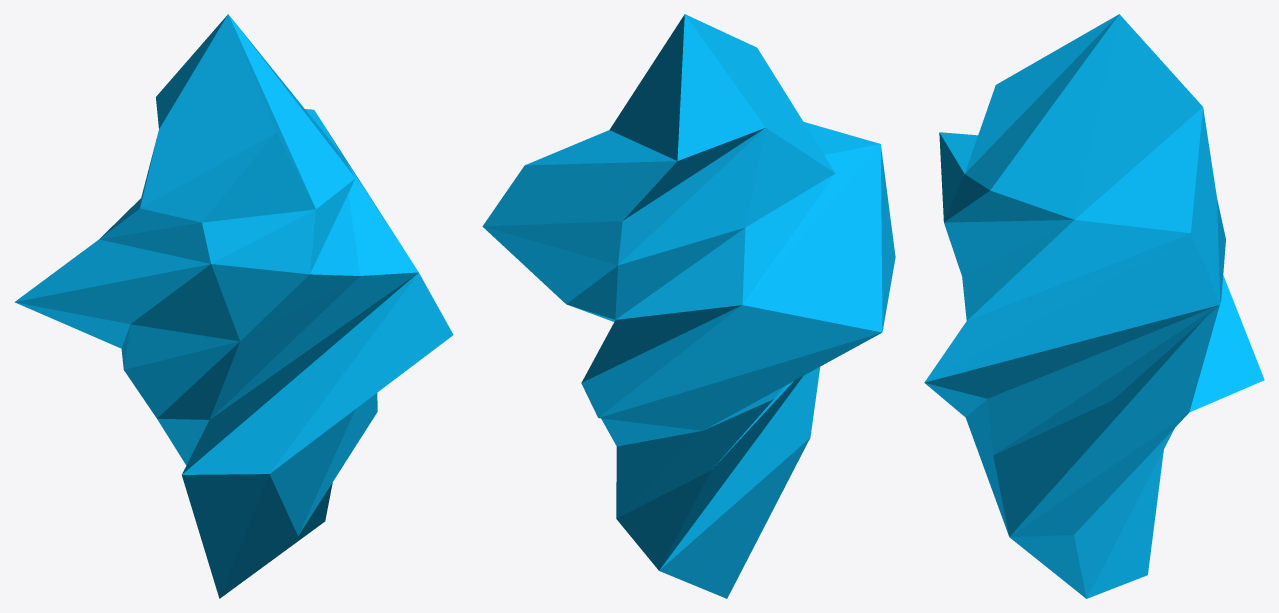
The model's file is Crystal_008.fbx.
The picture shows the model from 3 angles, left to right: view 1: azimuth 30°, elevation 25°; view 2: azimuth 150°, elevation 25°; view 3: azimuth 270°, elevation 25°; orthographic projection. The views are drawn at different scales.
Parts seen in each view (by area): view 1: Crystal.008; view 2: Crystal.008; view 3: Crystal.008.
Part boxes in pixels (x1,y1,x2,y2): Crystal.008: (14,14,453,598); Crystal.008: (482,14,895,598); Crystal.008: (924,14,1264,598).
Bounding box in the file's own units: 315 × 490 × 253.
